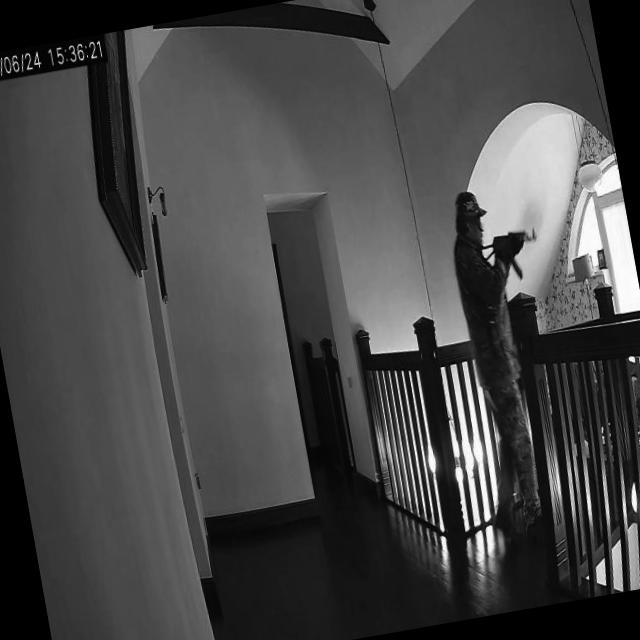gun: (476, 222, 542, 266)
person with a gun: (438, 178, 590, 540)
